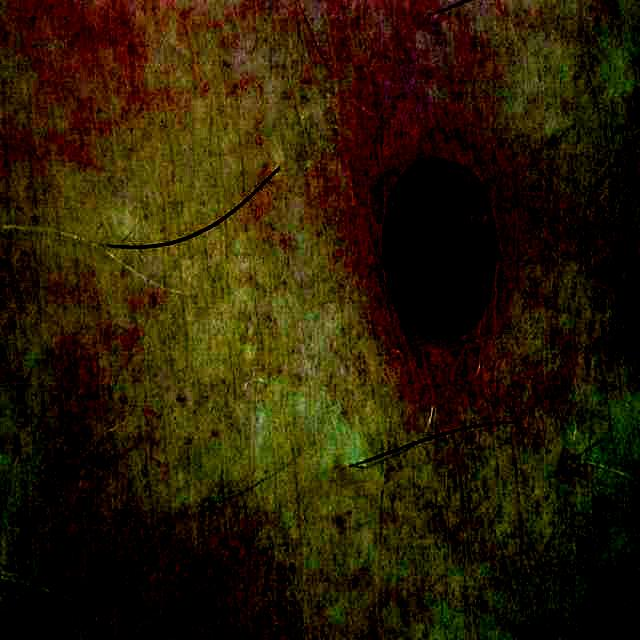VASC: (384, 159, 497, 337)
